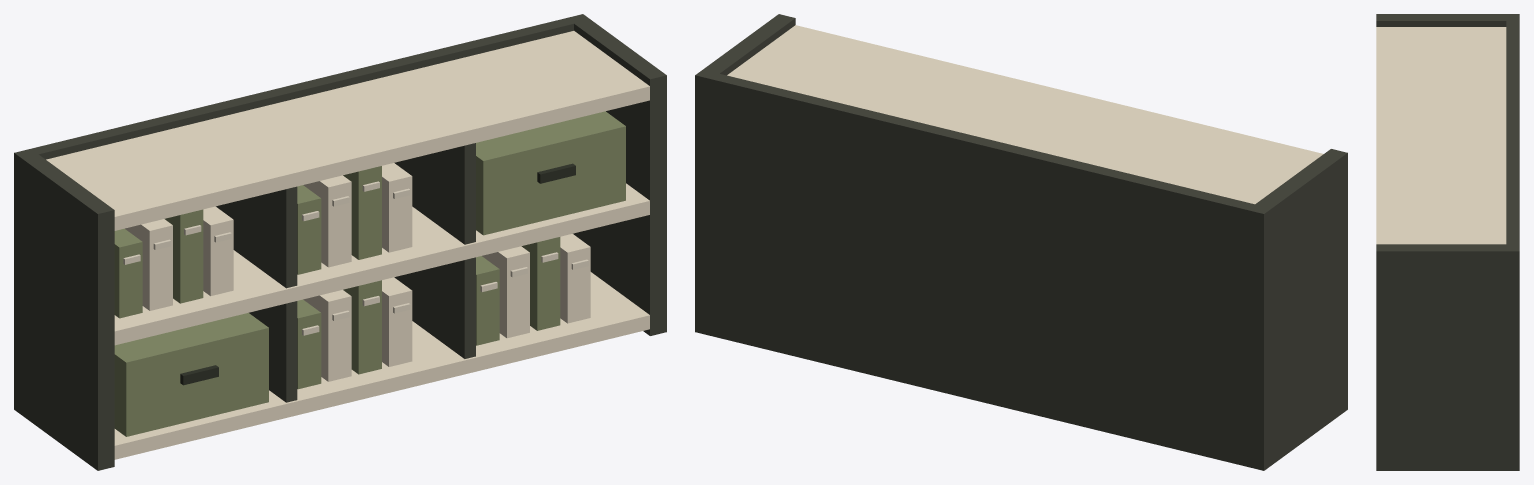
Rendered from show_study_shelf.glb.
3 renders of one model, left to right at view 1: azimuth 30°, elevation 25°; view 2: azimuth 150°, elevation 25°; view 3: azimuth 270°, elevation 25°, orthographic. The views are drawn at different scales.
Bounding box in the file's own units: 2.55 × 1.1 × 0.65.
